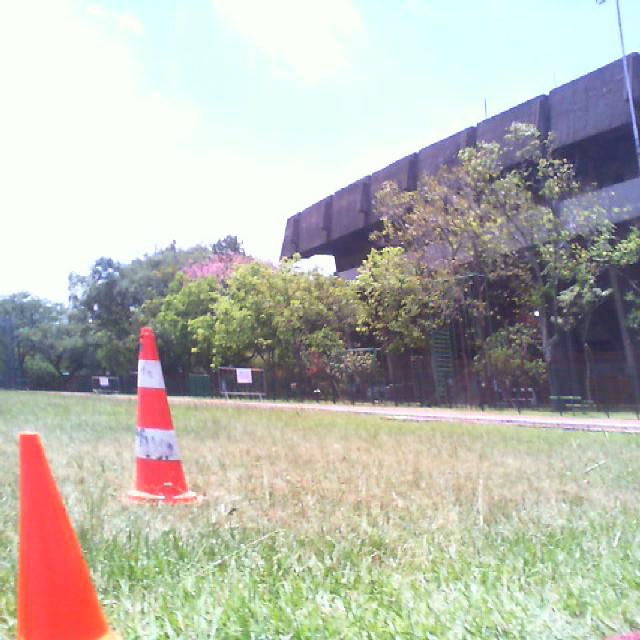cone: (18, 432, 116, 640), (126, 325, 196, 500)
